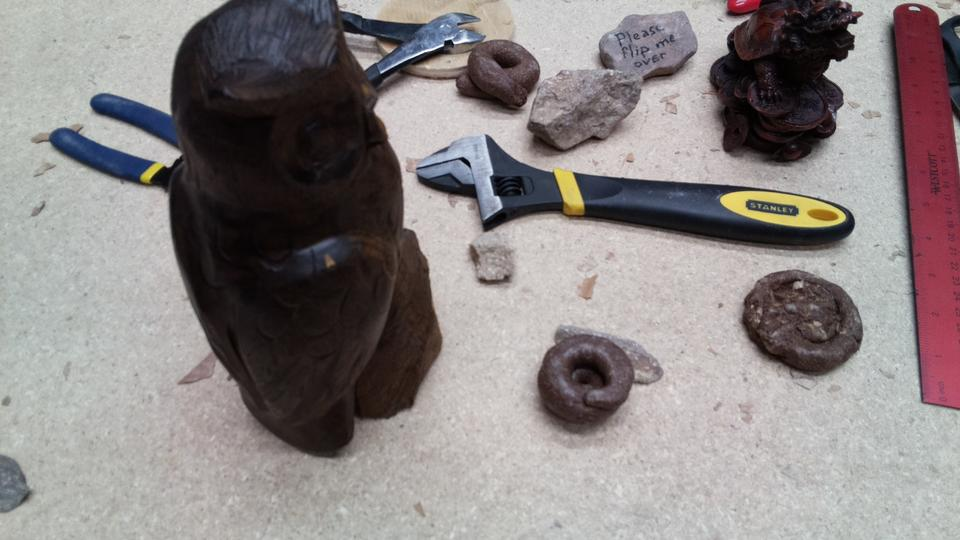poop: (737, 266, 866, 379), (532, 332, 637, 429), (454, 35, 544, 111)
